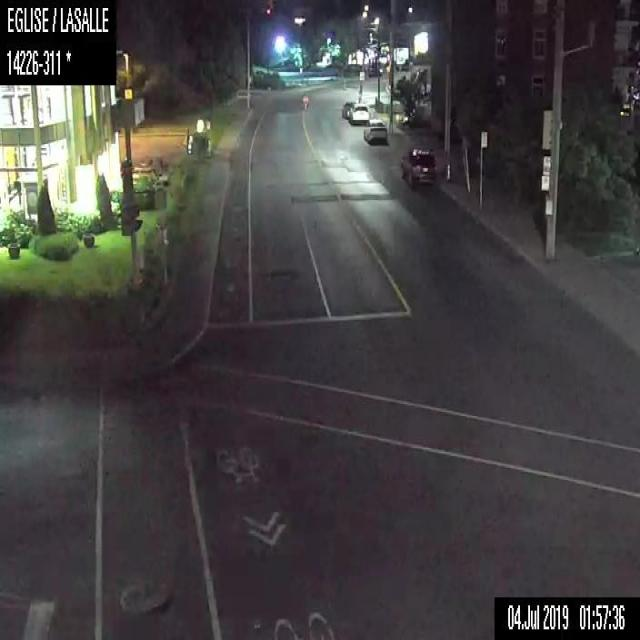vehicle: (398, 147, 436, 190), (363, 118, 387, 142), (346, 101, 370, 125), (340, 99, 353, 118)
